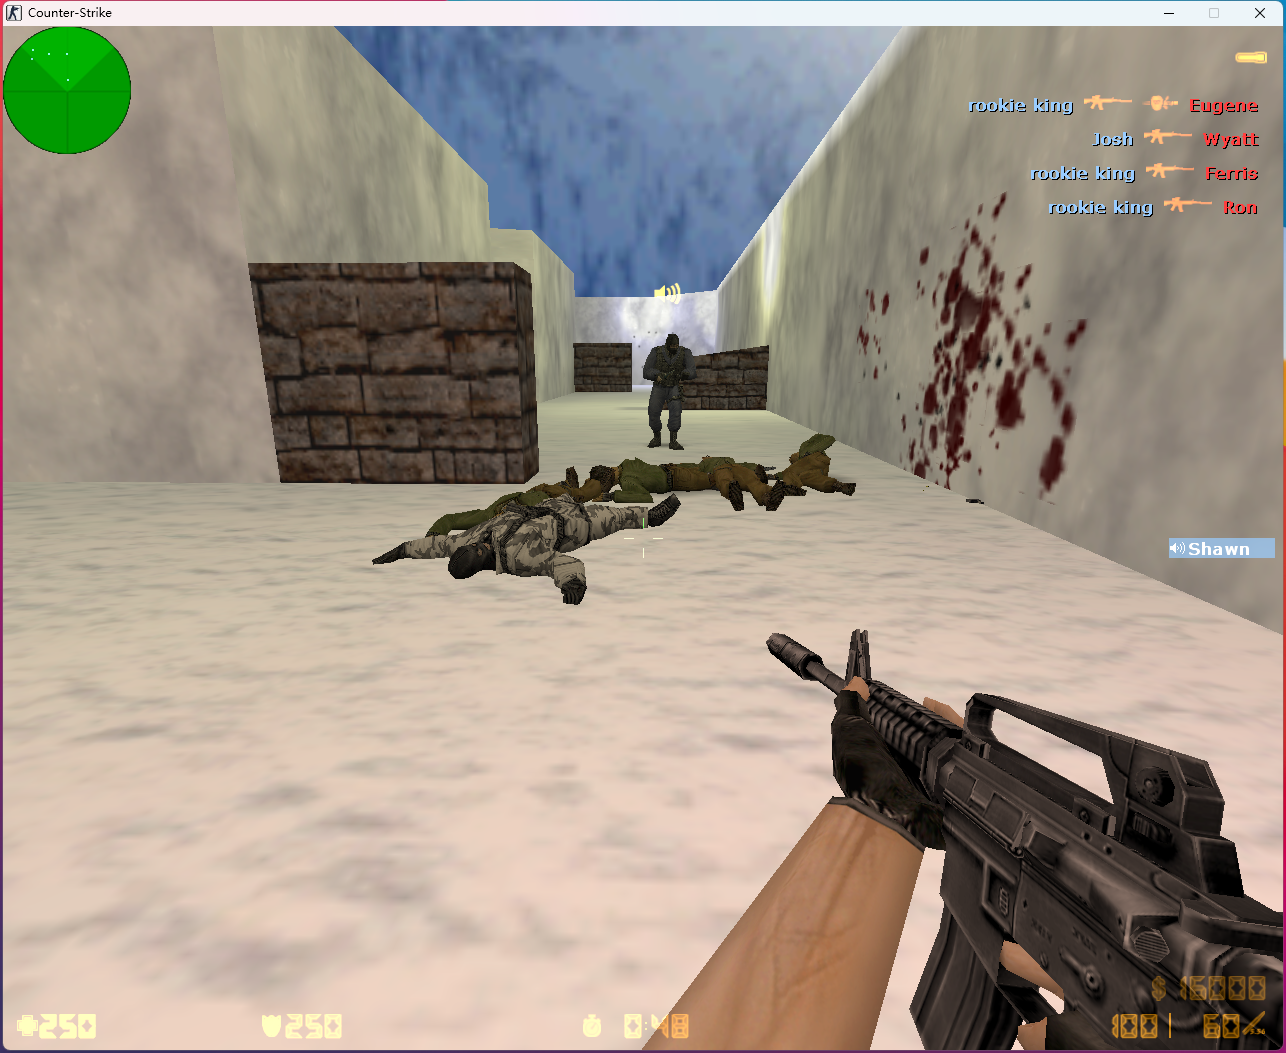C: (632, 334, 702, 451)
dead: (375, 501, 674, 601), (595, 455, 715, 502), (700, 450, 783, 513), (782, 436, 853, 498)
